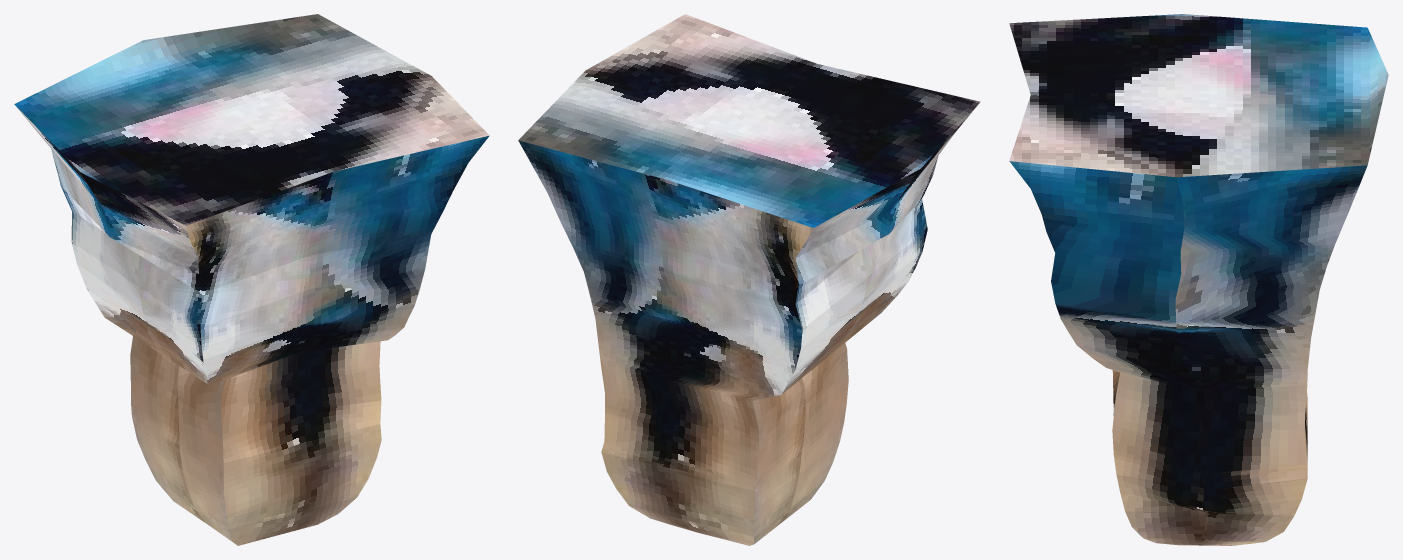
3 renders of one model, left to right at view 1: azimuth 30°, elevation 25°; view 2: azimuth 150°, elevation 25°; view 3: azimuth 270°, elevation 25°, orthographic. The views are drawn at different scales.
Visible parts, largest first — view 1: SPLICE_3.002; view 2: SPLICE_3.002; view 3: SPLICE_3.002.
Part boxes in pixels (x1,y1,x2,y2): SPLICE_3.002: (14,14,489,545); SPLICE_3.002: (518,14,980,545); SPLICE_3.002: (1009,14,1388,545).
Size of the model in its own units: 1.07 by 1.28 by 0.9717.
1 material, 1 textured.
